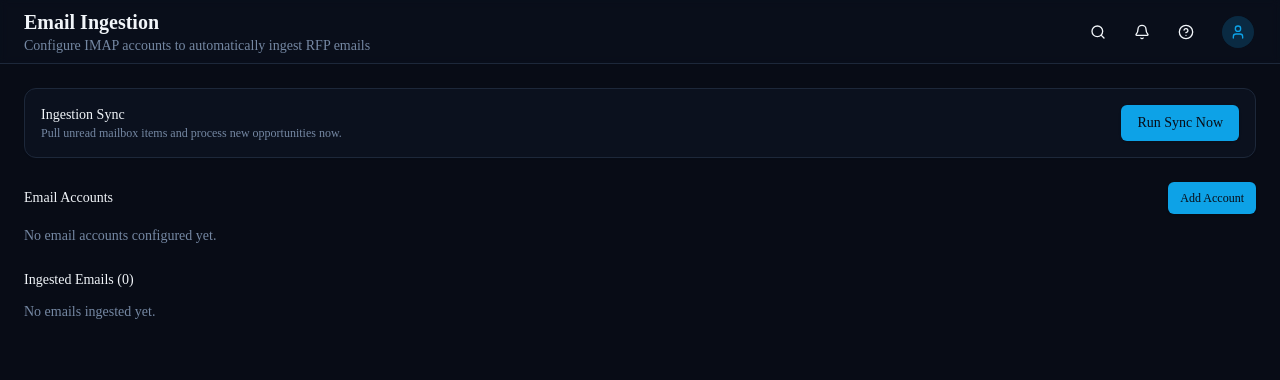
Test: EmailIngestPage › runs sync now and renders summary
Click the button "Run Sync Now" at (1180, 123), box [1121,105,1239,141]
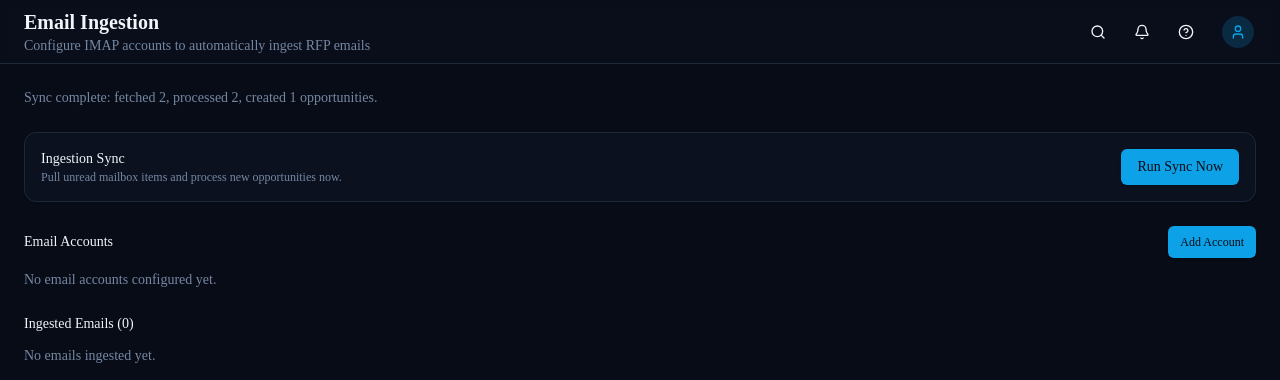
Now the text "Sync complete: fetched 2, processed 2, created 1 opportunities." is shown, box [24,90,377,105]
